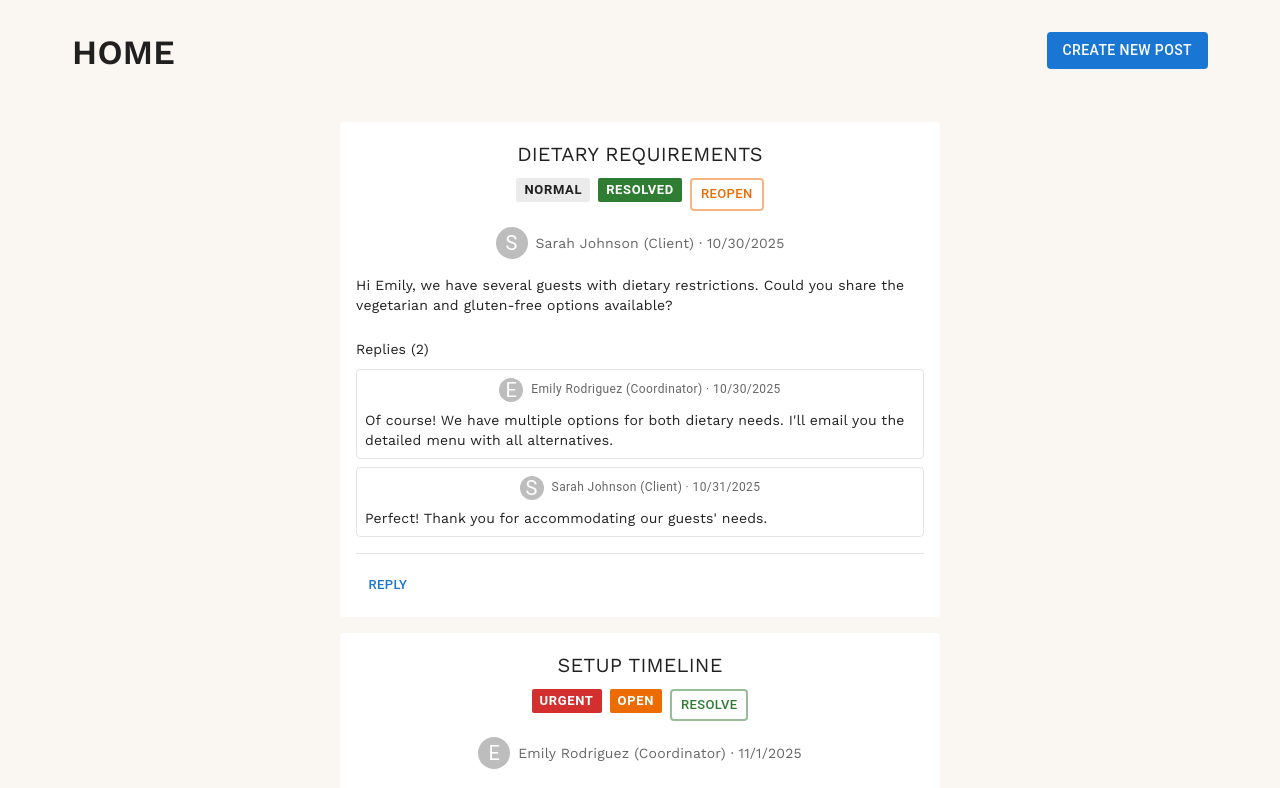
Test case: Discussions Page › Create Post Functionality › opens dialog when create new post button is clicked
The image size is (1280, 788).
Click the button "Create New Post" at (1127, 50), box [1046,32,1208,68]
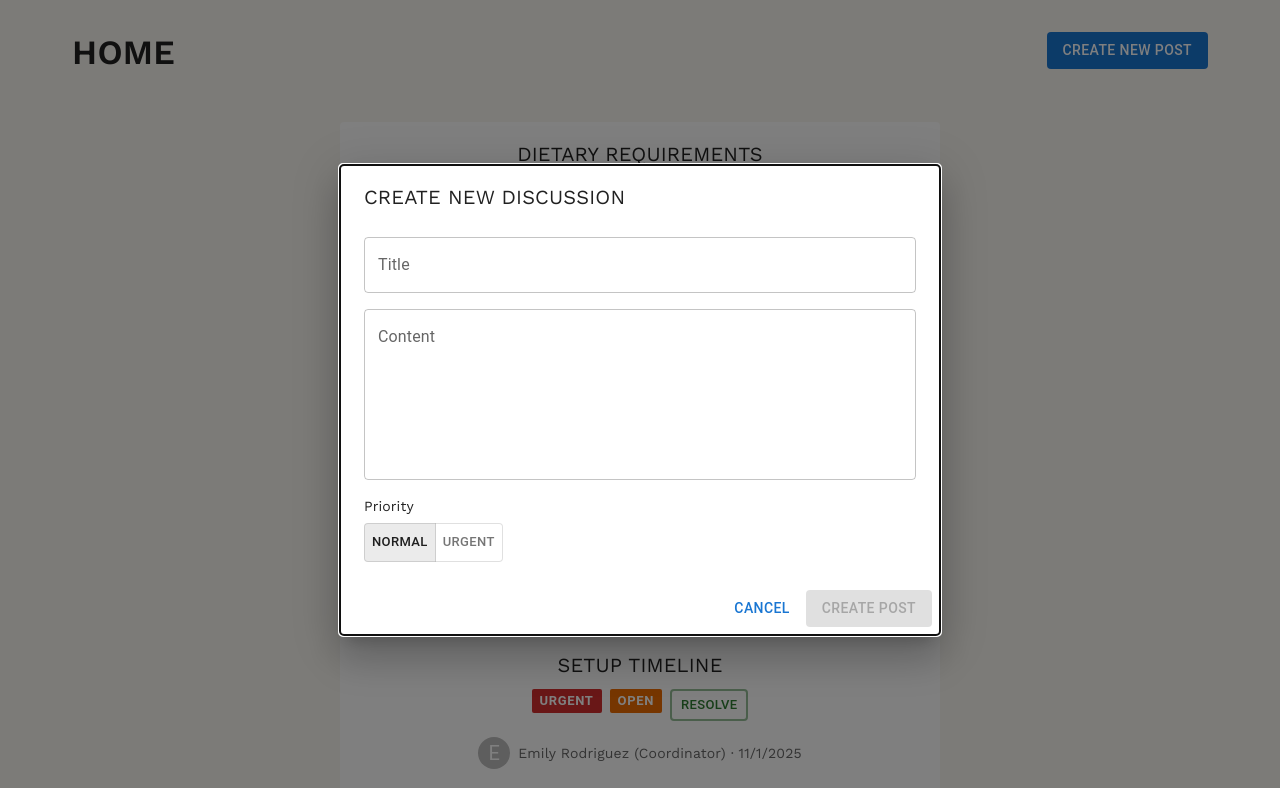
expect the dialog is shown: met, box [340,165,940,634]
expect the heading "Create New Discussion" is shown: met, box [364,185,625,209]
